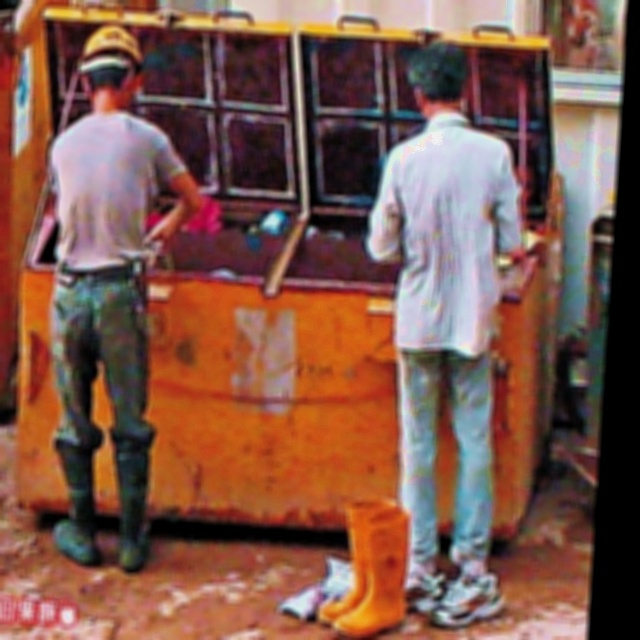Con_Casco: (72, 25, 144, 111)
Sin_Casco_Mascarrilla: (406, 40, 470, 116)
